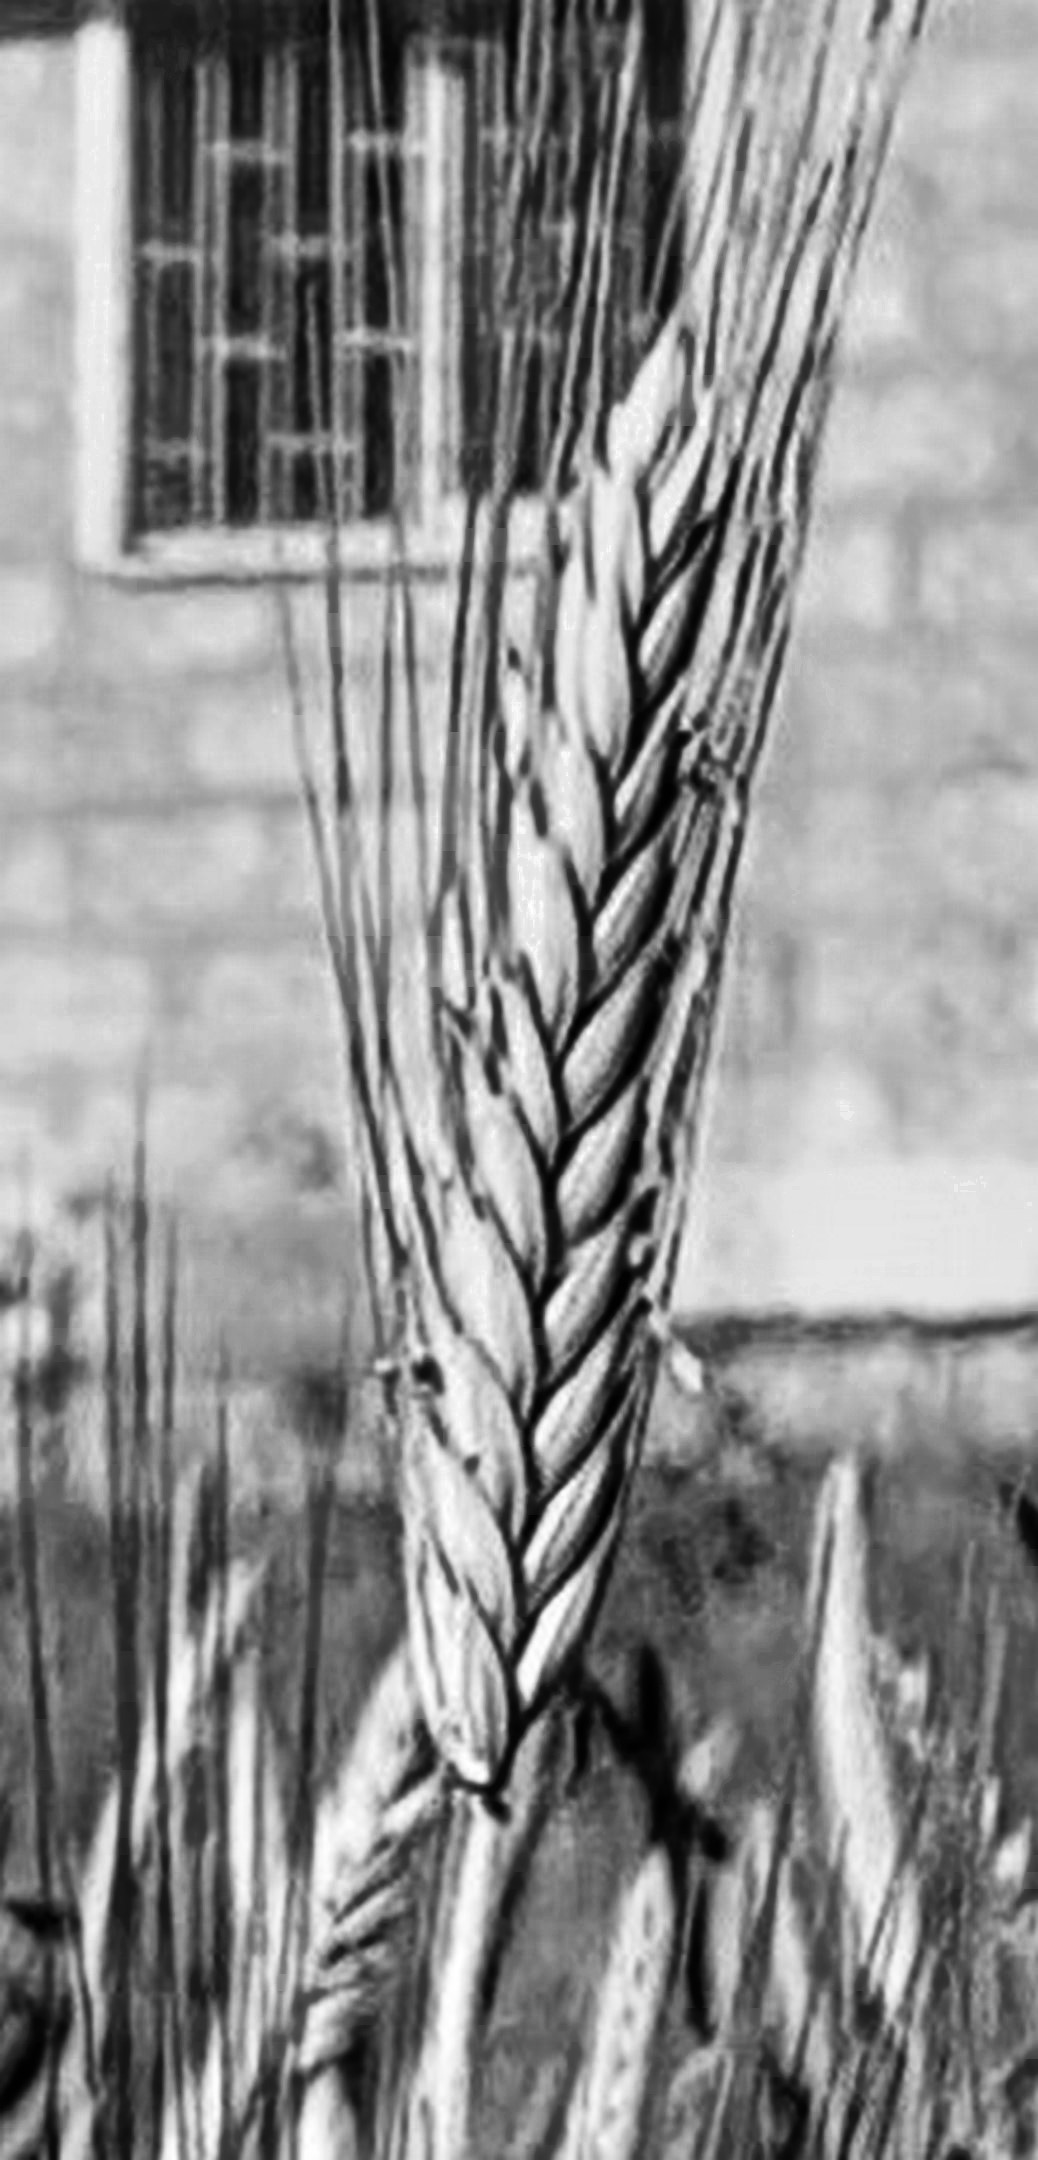Healthy Wheat: (392, 298, 774, 1744)
